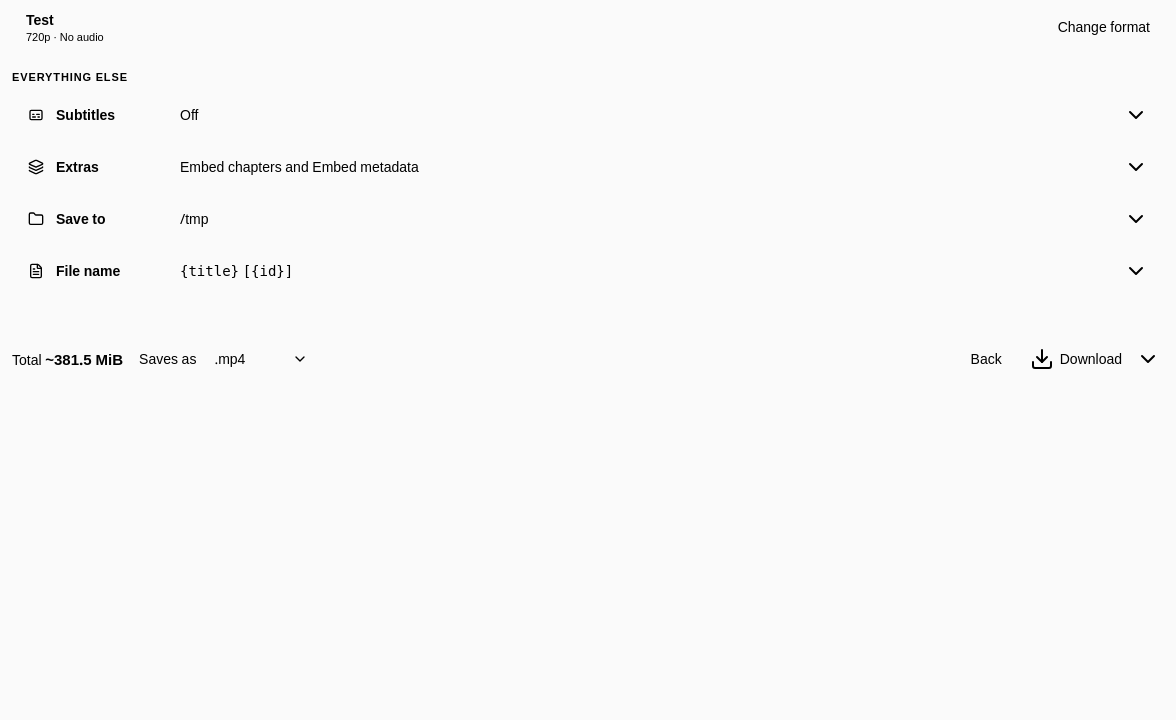
Scenario: Review — subtitle row › shows Off when no languages are selected, and opens the picker in place
The width and height of the screenshot is (1176, 720).
Click the button with test id "review-row-subtitles-toggle": (86, 115) [12,90,1164,142]
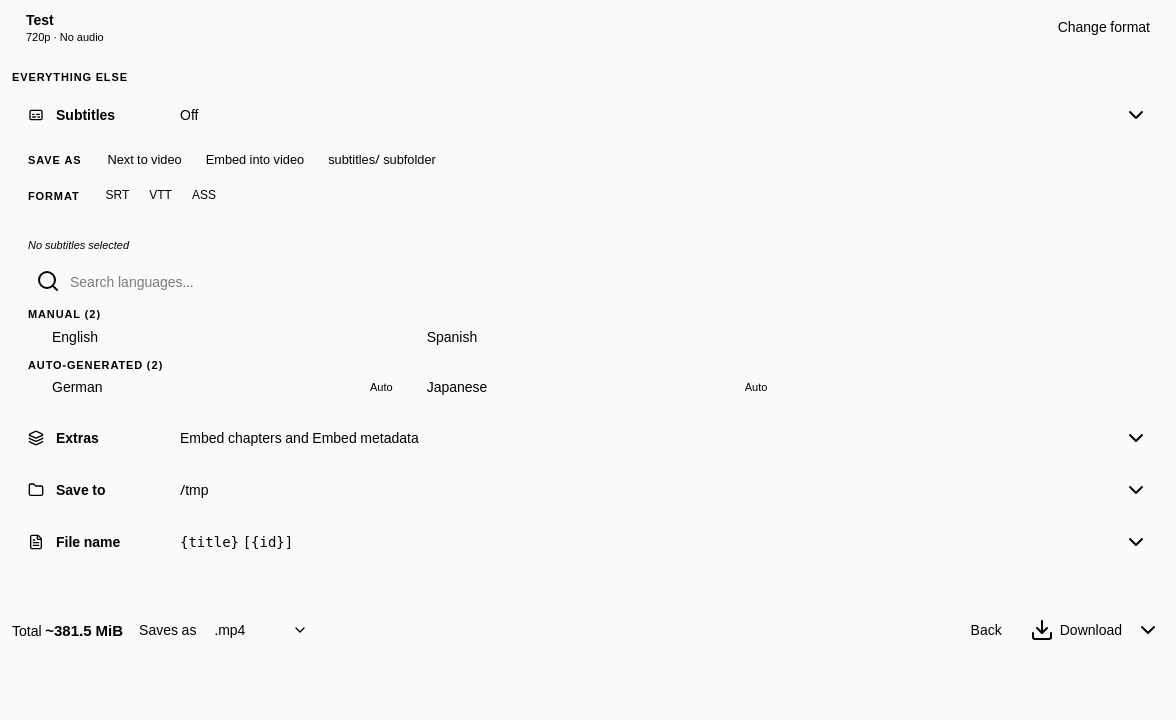
Expected: the element with test id "subtitle-fields" is shown, [28,146,1148,396]
